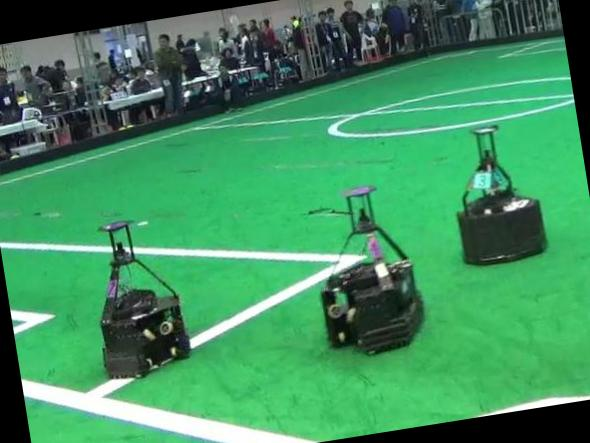robot: (321, 185, 423, 353), (101, 220, 189, 377), (458, 125, 545, 263)
